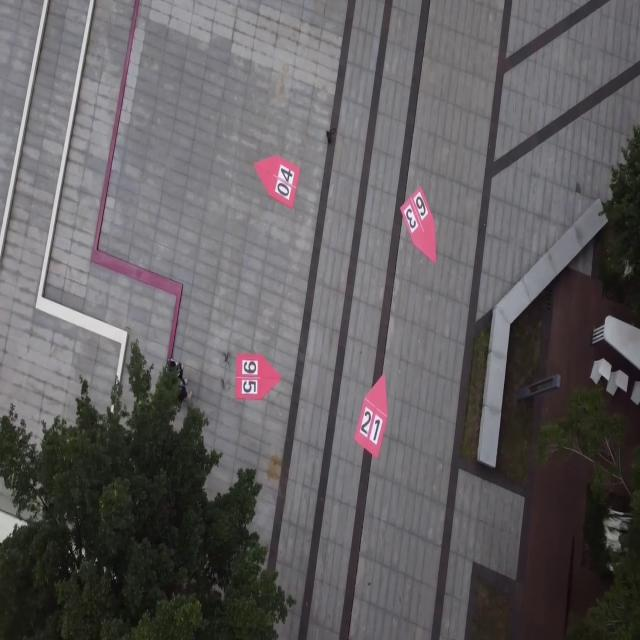-sign-: (354, 374, 388, 460), (401, 186, 437, 264), (254, 154, 299, 210), (235, 353, 281, 402)
